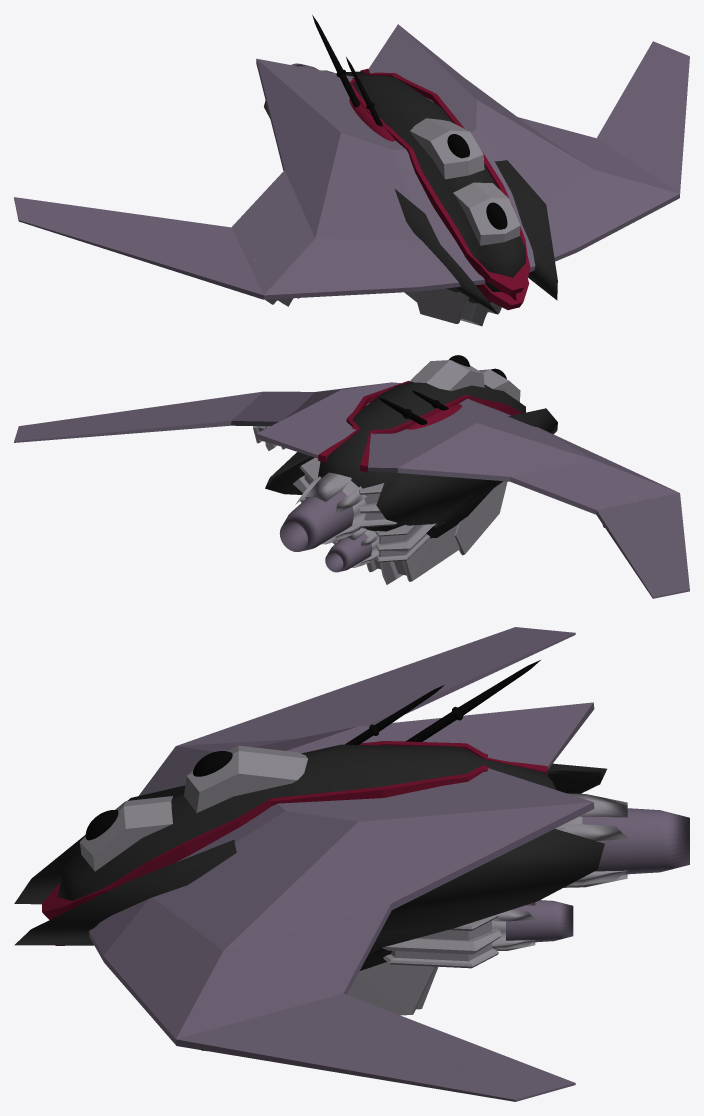
File: dronerigged.fbx
3 renders of one model, top to bottom at view 1: azimuth 30°, elevation 25°; view 2: azimuth 150°, elevation 25°; view 3: azimuth 270°, elevation 25°, orthographic. The views are drawn at different scales.
Parts seen in each view (by area): view 1: Cube.231, Cube.123, Cube.252, Cube.228, Cube.227, Cube.232, Cone.003, Cube.253; view 2: Cube.231, Cube.123, Cylinder.115, Cube.235, Cube.230, Cube.252, Cube.232, Cube.228, Cube.238, Cylinder.114, Cube.236, Cube.227 (+3 smaller); view 3: Cube.231, Cube.123, Cube.252, Cylinder.115, Cube.228, Cube.239, Cube.235, Cube.227, Cube.230, Cylinder.114, Cone.003, Cube.229 (+1 smaller).
Part boxes in pixels (box(x1,y1,x2,y2)): Cube.231: box(14, 24, 689, 299); Cube.123: box(264, 71, 557, 314); Cube.252: box(349, 68, 530, 295); Cube.228: box(410, 118, 484, 179); Cube.227: box(453, 182, 520, 245); Cube.232: box(414, 288, 501, 326); Cone.003: box(312, 15, 359, 107); Cube.253: box(476, 284, 518, 309); Cube.231: box(14, 382, 689, 598); Cube.123: box(265, 381, 557, 538); Cylinder.115: box(279, 490, 353, 551); Cube.235: box(366, 525, 459, 584); Cube.230: box(295, 472, 366, 544); Cube.252: box(318, 380, 521, 472); Cube.232: box(454, 481, 507, 555); Cube.228: box(410, 360, 484, 391); Cube.238: box(375, 523, 435, 562); Cylinder.114: box(325, 533, 372, 572); Cube.236: box(359, 483, 397, 527); Cube.227: box(478, 369, 520, 401); Cube.231: box(89, 627, 594, 1101); Cube.123: box(14, 744, 606, 970); Cube.252: box(42, 741, 547, 919); Cylinder.115: box(582, 808, 689, 874); Cube.228: box(184, 745, 307, 812); Cube.239: box(382, 914, 501, 968); Cube.235: box(347, 962, 438, 1015); Cube.227: box(79, 796, 172, 871); Cube.230: box(557, 793, 627, 887); Cylinder.114: box(506, 900, 573, 942); Cone.003: box(405, 660, 540, 741); Cube.229: box(492, 902, 535, 950).
Size of the model in its own units: 685 by 233 by 414.
